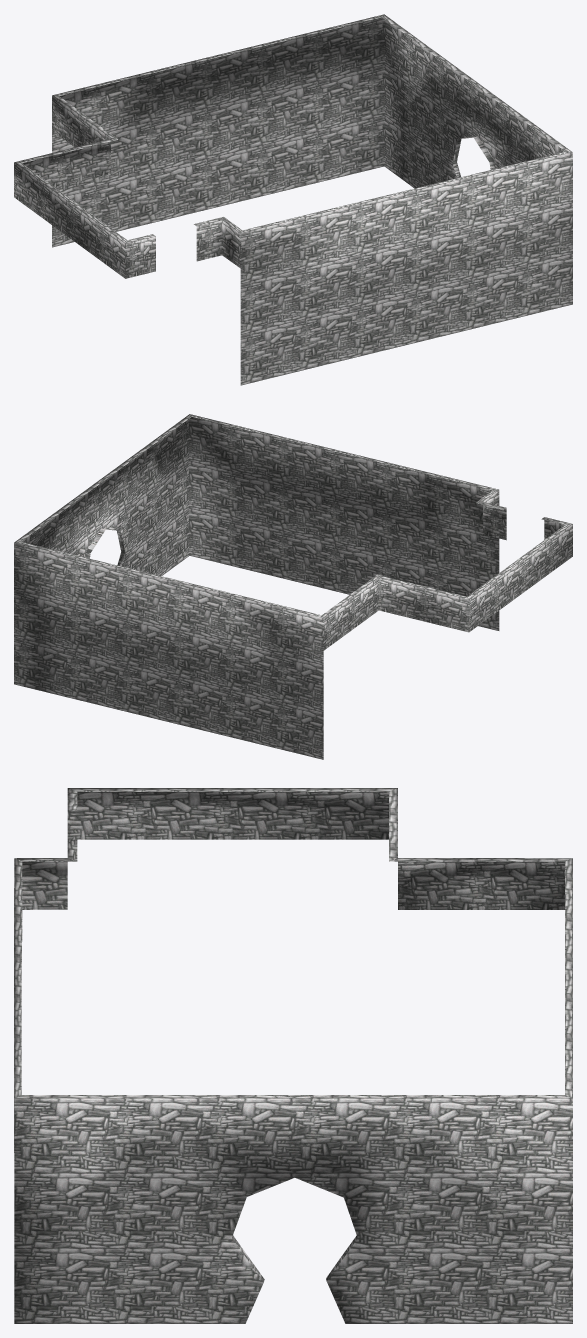
File: HTOWN01_MILLBASEEXT.fbx
The picture shows the model from 3 angles, top to bottom: view 1: azimuth 30°, elevation 25°; view 2: azimuth 150°, elevation 25°; view 3: azimuth 270°, elevation 25°; orthographic projection. The views are drawn at different scales.
Visible parts, largest first — view 1: HTOWN01_MILLBASEEXT; view 2: HTOWN01_MILLBASEEXT; view 3: HTOWN01_MILLBASEEXT.
Part boxes in pixels (<box>): HTOWN01_MILLBASEEXT: <box>14,14,572,385</box>; HTOWN01_MILLBASEEXT: <box>14,414,572,759</box>; HTOWN01_MILLBASEEXT: <box>14,788,572,1323</box>.
Bounding box in the file's own units: 173302 × 58653 × 131846.
1 material, 1 textured.
